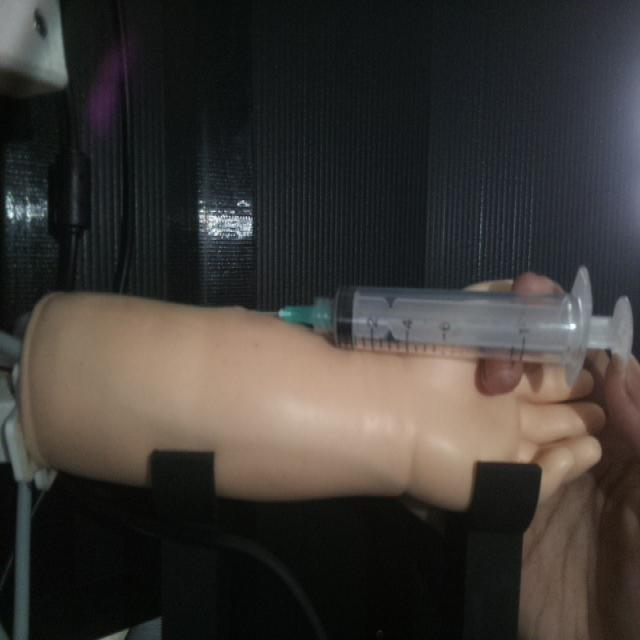Outside: (242, 262, 636, 369)
